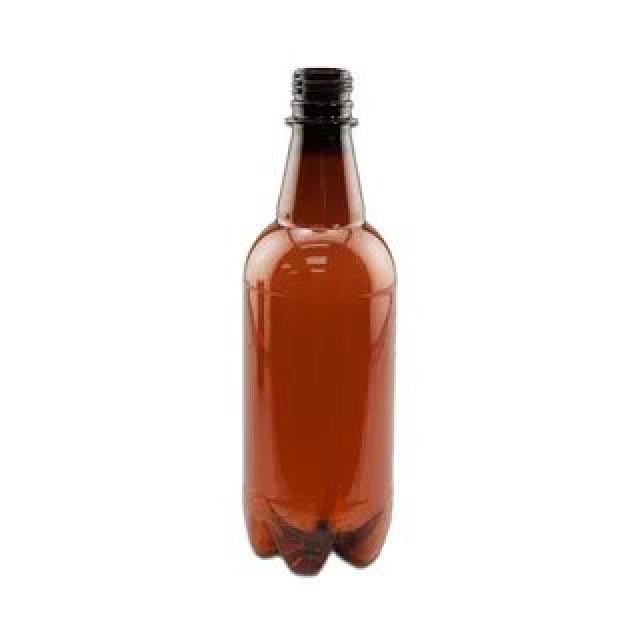brown: (242, 65, 395, 577)
